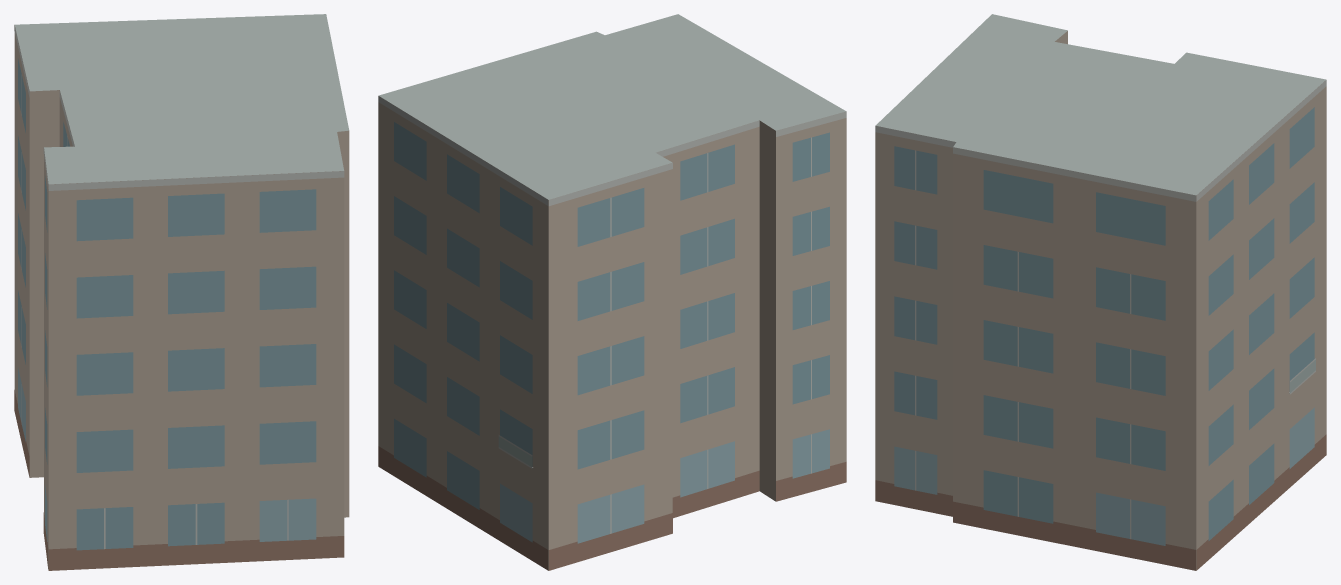
The model's file is survey-upis-32518618.glb.
3 renders of one model, left to right at view 1: azimuth 30°, elevation 25°; view 2: azimuth 150°, elevation 25°; view 3: azimuth 270°, elevation 25°, orthographic. The views are drawn at different scales.
Parts seen in each view (by area): view 1: survey-upis-32518618.tmp; view 2: survey-upis-32518618.tmp; view 3: survey-upis-32518618.tmp.
Boxes of the visible parts, x1,y1,x2,y2 form: survey-upis-32518618.tmp: (14, 14, 349, 570); survey-upis-32518618.tmp: (378, 14, 846, 570); survey-upis-32518618.tmp: (875, 14, 1326, 570).
Bounding box in the file's own units: 14.68 × 14.15 × 15.42.
